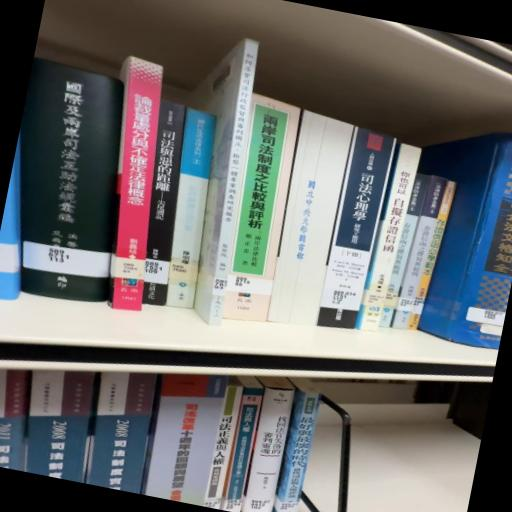backward: (268, 114, 361, 334)
book: (1, 61, 147, 308), (76, 56, 189, 316), (390, 122, 512, 358), (316, 130, 399, 338), (237, 383, 297, 512), (223, 386, 266, 508)
